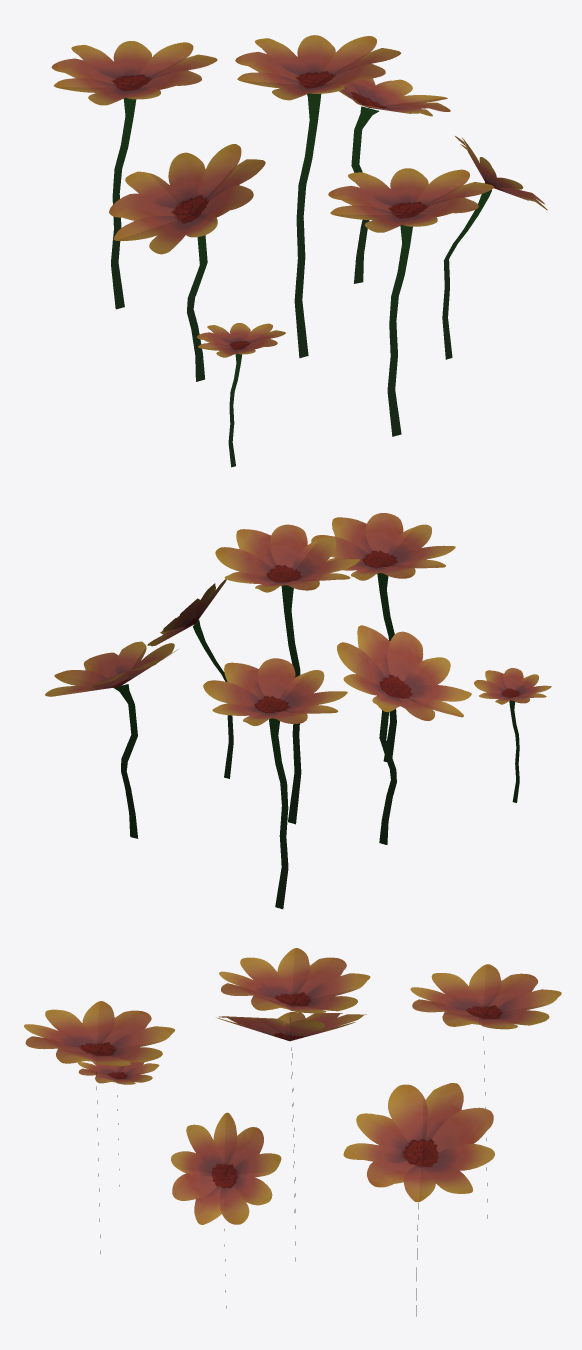
The model's file is Plant003.fbx.
3 views of the same model, one above another, from view 1: azimuth 30°, elevation 25°; view 2: azimuth 150°, elevation 25°; view 3: azimuth 270°, elevation 25° (orthographic). The views are drawn at different scales.
Visible parts, largest first — view 1: Plant; view 2: Plant; view 3: Plant.
Boxes of the visible parts, left/top/right/bottom form: Plant: left=51, top=35, right=547, bottom=467; Plant: left=45, top=513, right=551, bottom=909; Plant: left=24, top=948, right=561, bottom=1316.
Bounding box in the file's own units: 24.14 × 17.36 × 29.34.
